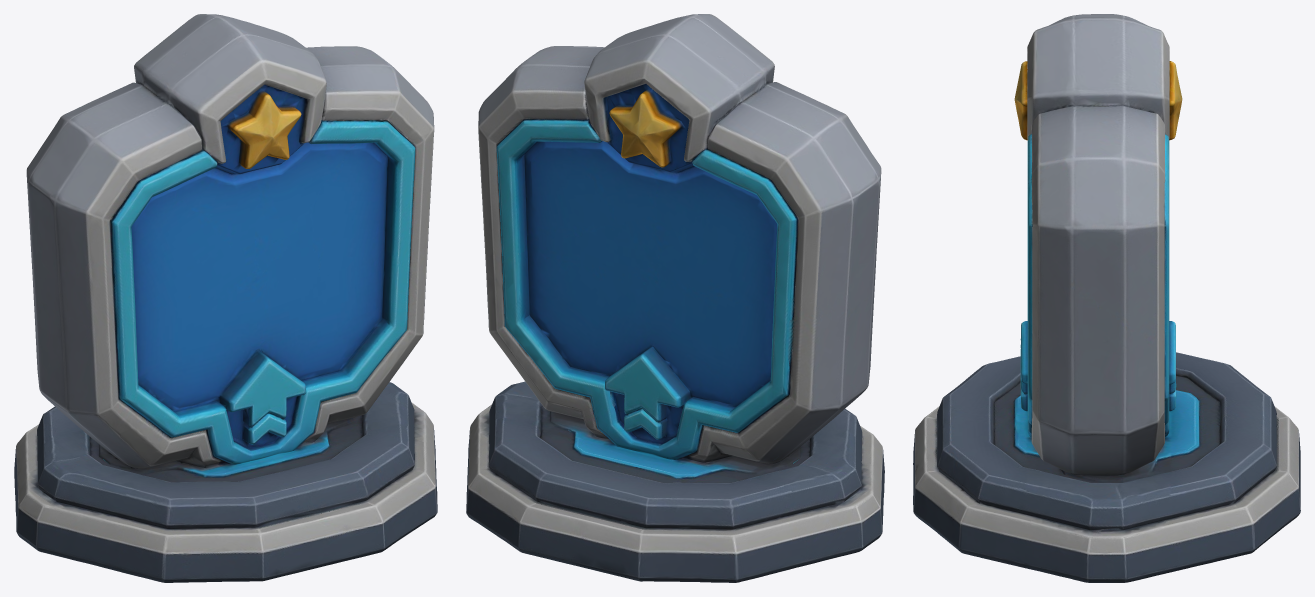
Rendered from player_level_1k_real.glb.
3 renders of one model, left to right at view 1: azimuth 30°, elevation 25°; view 2: azimuth 150°, elevation 25°; view 3: azimuth 270°, elevation 25°, orthographic.
Parts seen in each view (by area): view 1: tripo_node_8b173535-683c-46d9-8d73-354006612d93; view 2: tripo_node_8b173535-683c-46d9-8d73-354006612d93; view 3: tripo_node_8b173535-683c-46d9-8d73-354006612d93.
Boxes of the visible parts, bbox=[...] form: tripo_node_8b173535-683c-46d9-8d73-354006612d93: bbox=[14, 14, 437, 582]; tripo_node_8b173535-683c-46d9-8d73-354006612d93: bbox=[466, 14, 884, 582]; tripo_node_8b173535-683c-46d9-8d73-354006612d93: bbox=[913, 14, 1300, 582].
Bounding box in the file's own units: 0.8783 × 1 × 0.7476.
1 material, 1 textured.
